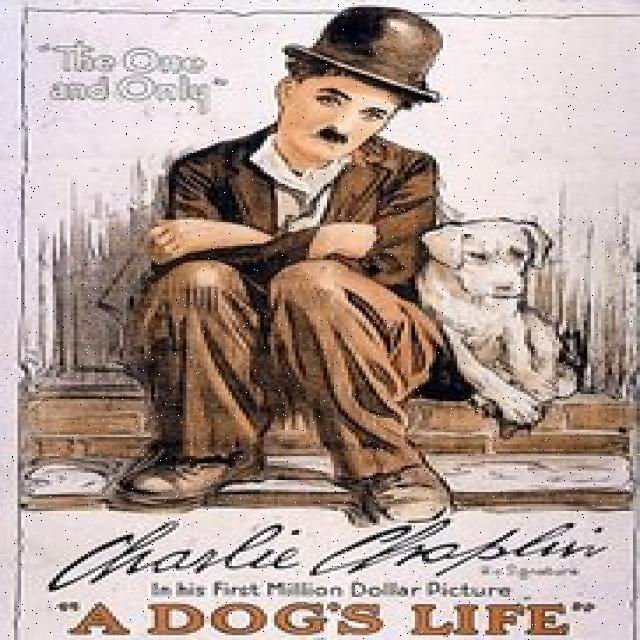movie-judul: (41, 514, 619, 640)
picture: (29, 13, 609, 510)
